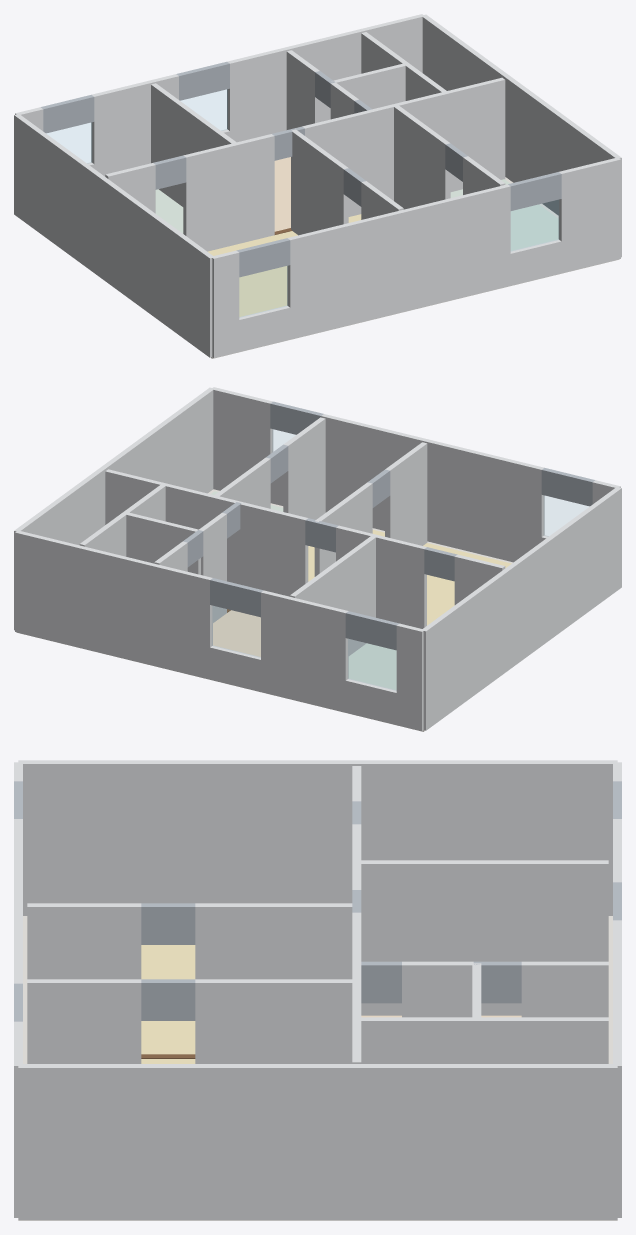
3 renders of one model, top to bottom at view 1: azimuth 30°, elevation 25°; view 2: azimuth 150°, elevation 25°; view 3: azimuth 270°, elevation 25°, orthographic. The views are drawn at different scales.
Visible parts, largest first — view 1: wall_post_000_01, wall_002_pw_west, wall_post_006_final, wall_003_pw_east, wall_post_001_final, wall_post_006_01, wall_post_000_final, wall_post_001_01, wall_post_004_final, wall_post_005_final, wall_007_iw4, wall_post_000_00 (+23 smaller); view 2: wall_002_pw_west, wall_post_001_final, wall_post_000_01, wall_003_pw_east, wall_post_006_final, wall_post_001_01, wall_post_006_01, wall_post_000_final, wall_007_iw4, wall_post_004_00, wall_post_005_00, wall_post_001_00 (+22 smaller); view 3: wall_003_pw_east, wall_002_pw_west, wall_007_iw4, wall_post_005_final, wall_post_004_final, wall_010_iw7, wall_post_005_00, wall_post_004_00, wall_post_008_final, wall_post_008_01, room_finish_001_living_room, lintel_door_004_d2 (+9 smaller).
Part boxes in pixels (x1,y1,x2,y2): wall_post_000_01: [287, 184, 510, 339]; wall_002_pw_west: [14, 114, 212, 357]; wall_post_006_final: [302, 77, 505, 216]; wall_003_pw_east: [422, 14, 621, 257]; wall_post_001_final: [227, 14, 424, 142]; wall_post_006_01: [183, 134, 274, 251]; wall_post_000_final: [558, 157, 620, 273]; wall_post_001_01: [91, 74, 178, 176]; wall_post_004_final: [291, 129, 348, 235]; wall_post_005_final: [393, 104, 450, 209]; wall_007_iw4: [151, 83, 237, 206]; wall_post_000_00: [211, 250, 239, 357]; wall_002_pw_west: [423, 487, 621, 730]; wall_post_001_final: [15, 530, 212, 679]; wall_post_000_01: [321, 414, 544, 562]; wall_003_pw_east: [14, 387, 213, 630]; wall_post_006_final: [105, 469, 308, 596]; wall_post_001_01: [261, 590, 348, 712]; wall_post_006_01: [336, 525, 426, 628]; wall_post_000_final: [212, 387, 273, 490]; wall_007_iw4: [290, 535, 376, 655]; wall_post_004_00: [385, 442, 427, 545]; wall_post_005_00: [283, 417, 325, 519]; wall_post_001_00: [396, 623, 424, 730]; wall_003_pw_east: [18, 1064, 617, 1219]; wall_002_pw_west: [18, 760, 617, 915]; wall_007_iw4: [357, 860, 608, 1015]; wall_post_005_final: [195, 979, 356, 1063]; wall_post_004_final: [195, 903, 352, 979]; wall_010_iw7: [361, 1017, 608, 1063]; wall_post_005_00: [27, 979, 141, 1063]; wall_post_004_00: [27, 903, 141, 979]; wall_post_008_final: [521, 961, 608, 1017]; wall_post_008_01: [402, 961, 473, 1017]; room_finish_001_living_room: [141, 945, 195, 1054]; lintel_door_004_d2: [141, 903, 195, 944].
Bounding box in the file's own units: 12.15 × 2.85 × 10.15.
